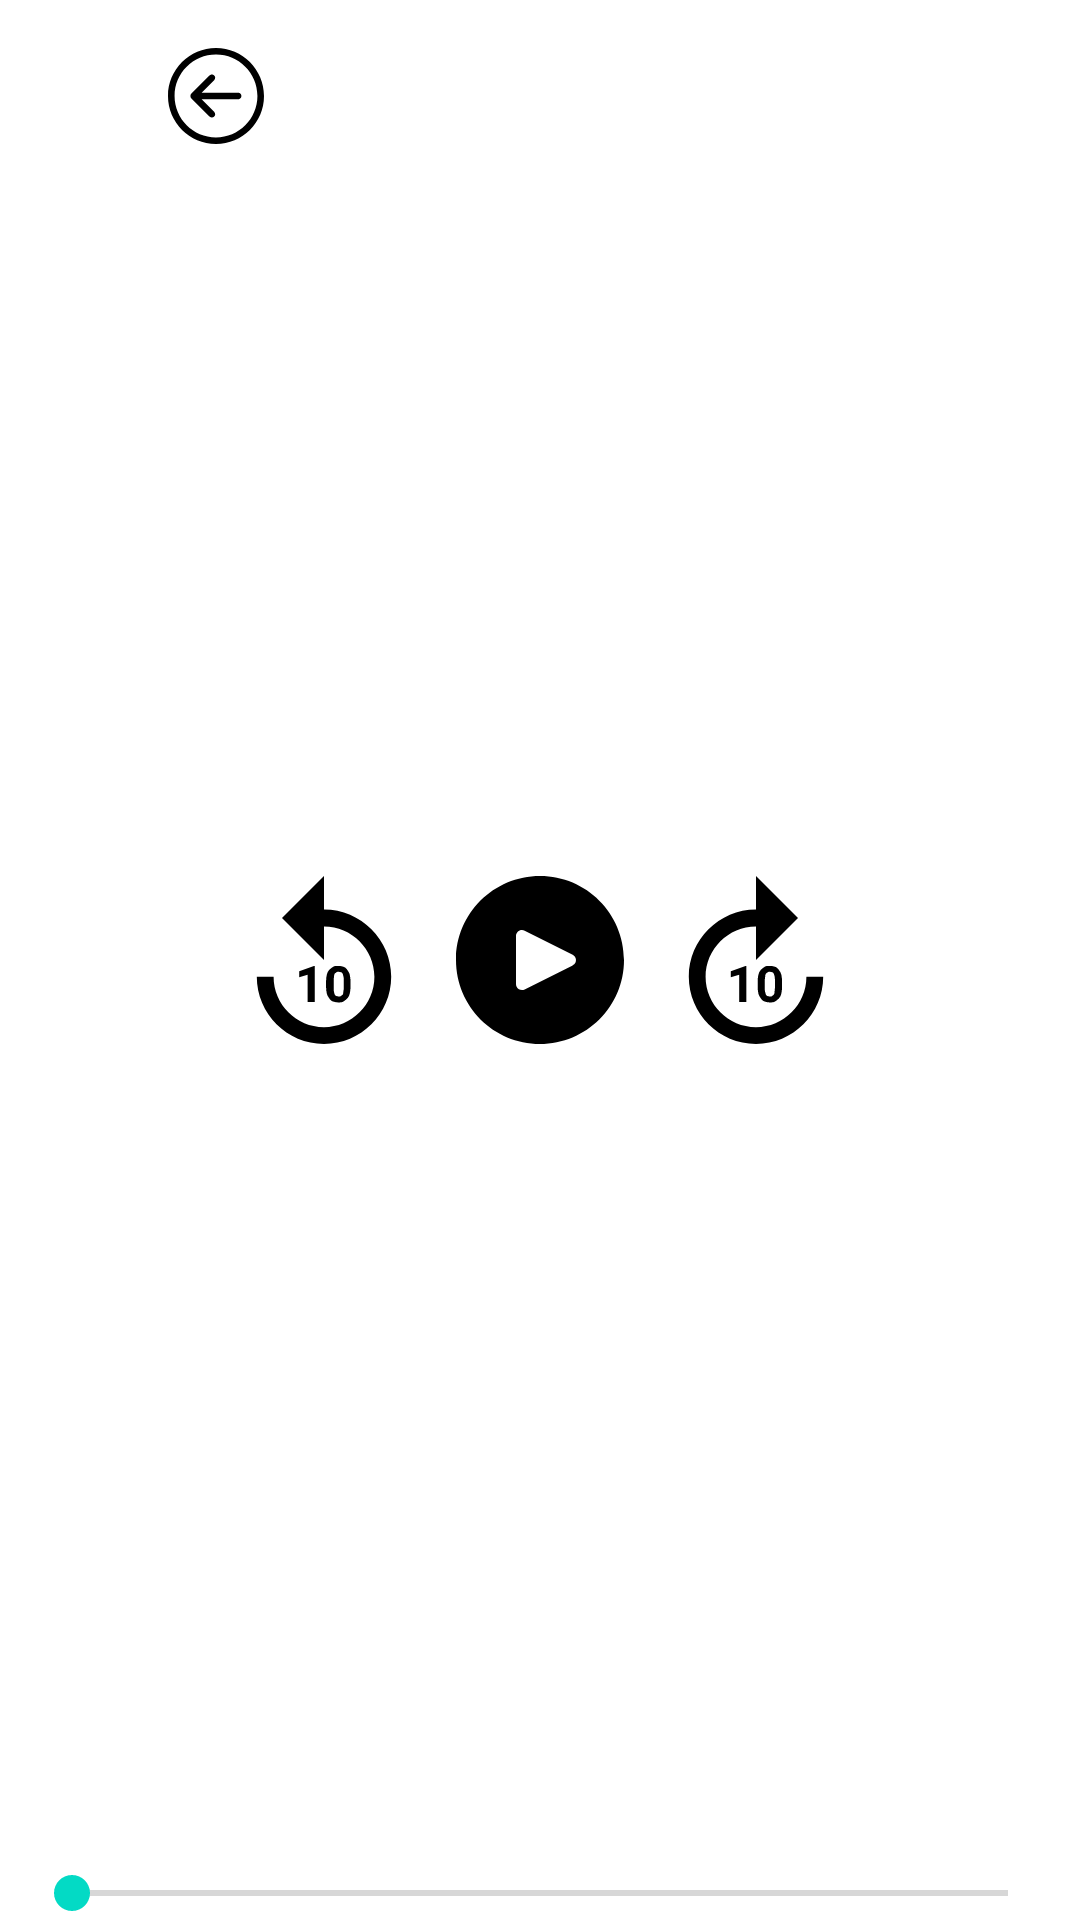

Screen size 1080 x 1920. Icon name, then its center in pixels as point (x, y):
back: point (216, 96)
backward: point (324, 960)
forward: point (756, 960)
play: point (540, 960)
